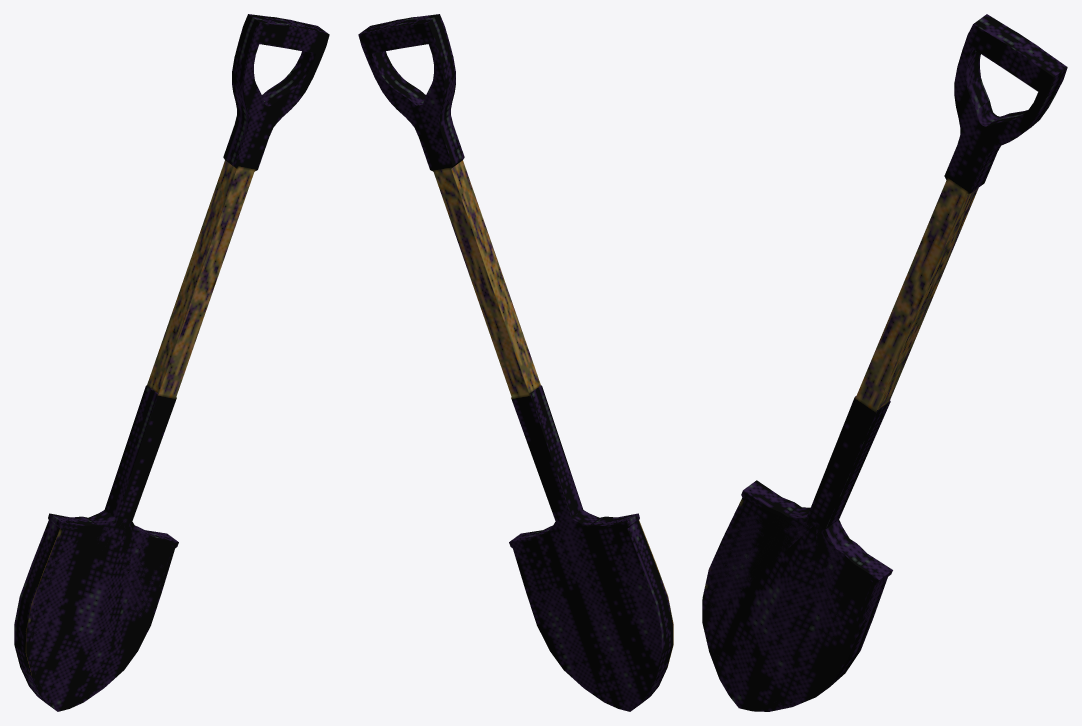
The model's file is Shovel.fbx.
3 views of the same model, side by side, from view 1: azimuth 30°, elevation 25°; view 2: azimuth 150°, elevation 25°; view 3: azimuth 330°, elevation 25° (orthographic). The views are drawn at different scales.
Parts seen in each view (by area): view 1: Plane; view 2: Plane; view 3: Plane.
Boxes of the visible parts, <box> form: Plane: <box>14,14,329,711</box>; Plane: <box>358,14,673,711</box>; Plane: <box>702,14,1067,711</box>.
Bounding box in the file's own units: 0.2323 × 0.0245 × 0.4679.
Materials: 2 (2 with a texture image).
